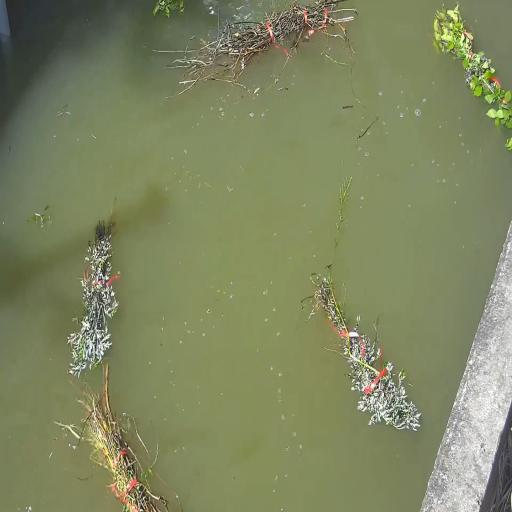twig: (166, 0, 356, 93), (314, 273, 421, 430), (83, 365, 168, 512), (434, 5, 512, 129), (68, 221, 119, 375), (234, 32, 240, 38)
